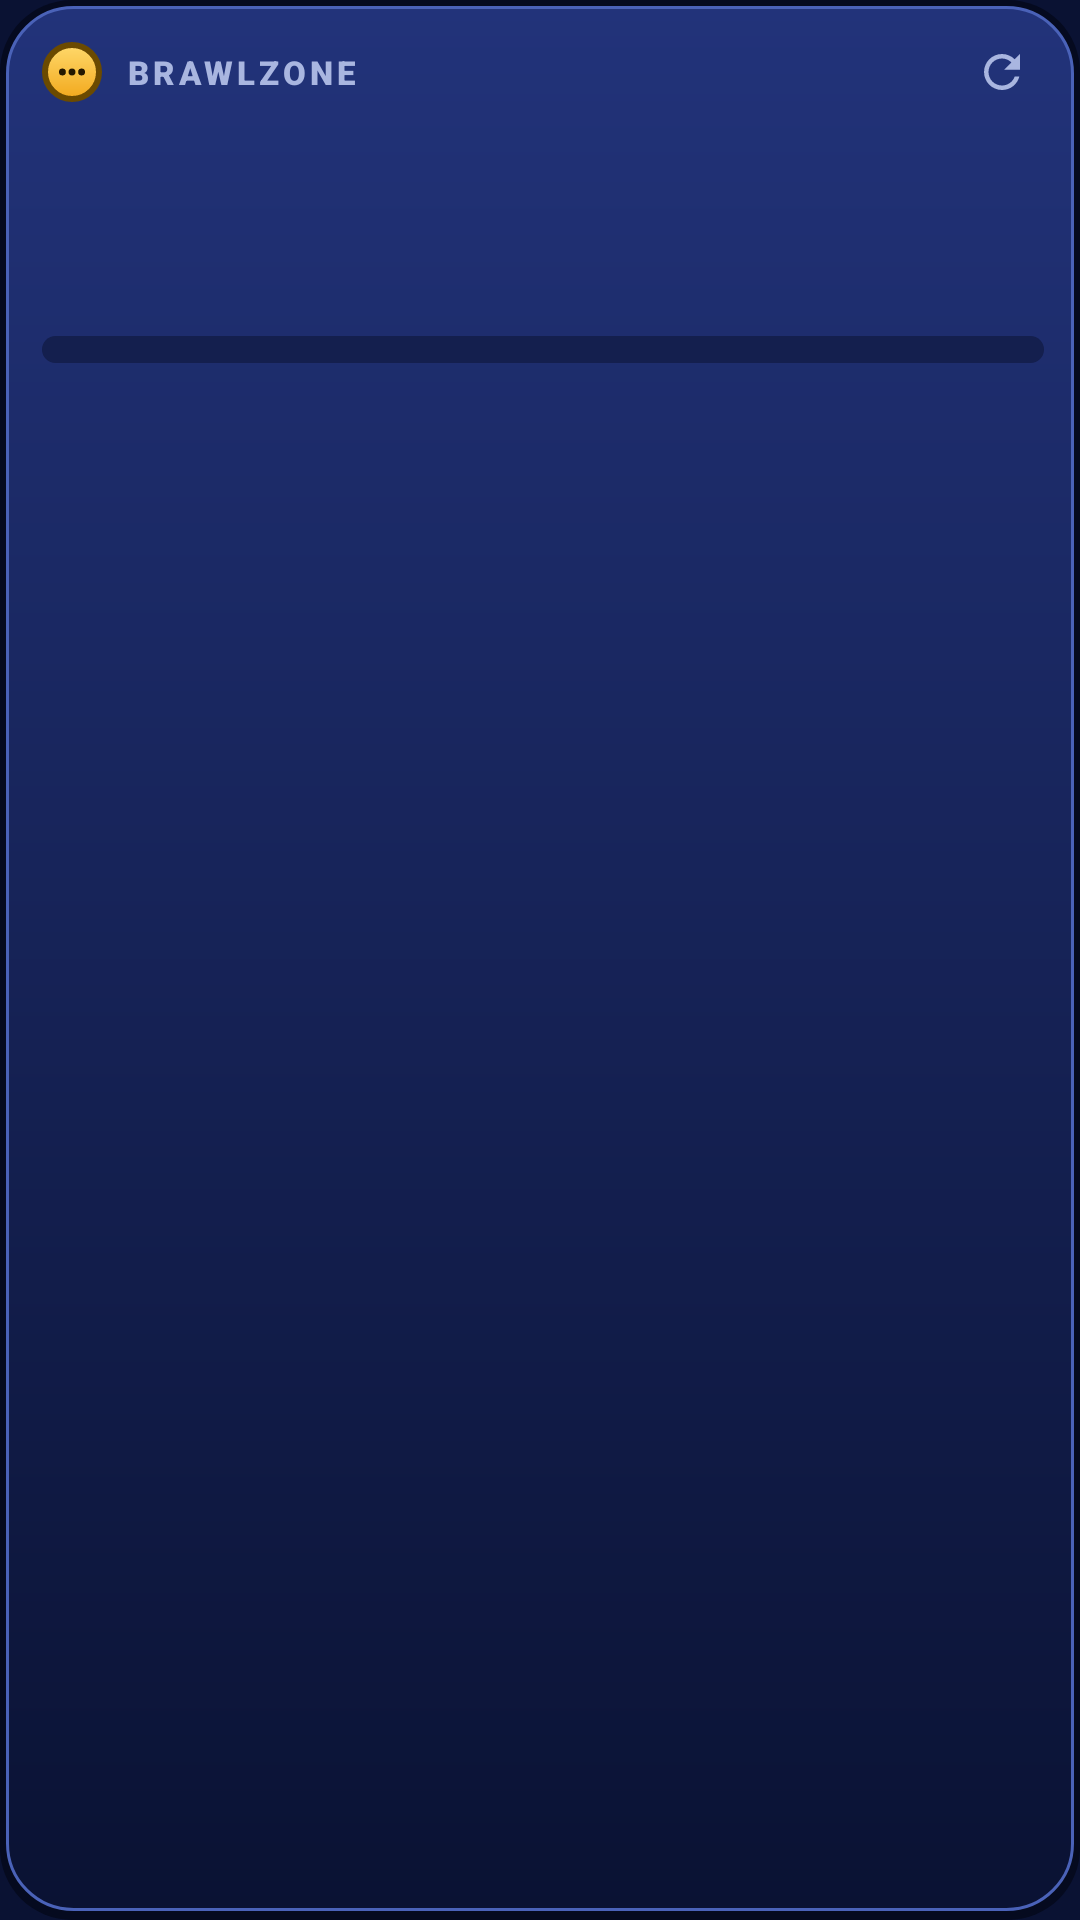

Screen size 1080 × 1920. Icon name, then its box in pixels as box(x1, y1, x2, y2):
bubble glyph: box(42, 42, 102, 102)
refresh: box(984, 54, 1020, 90)
